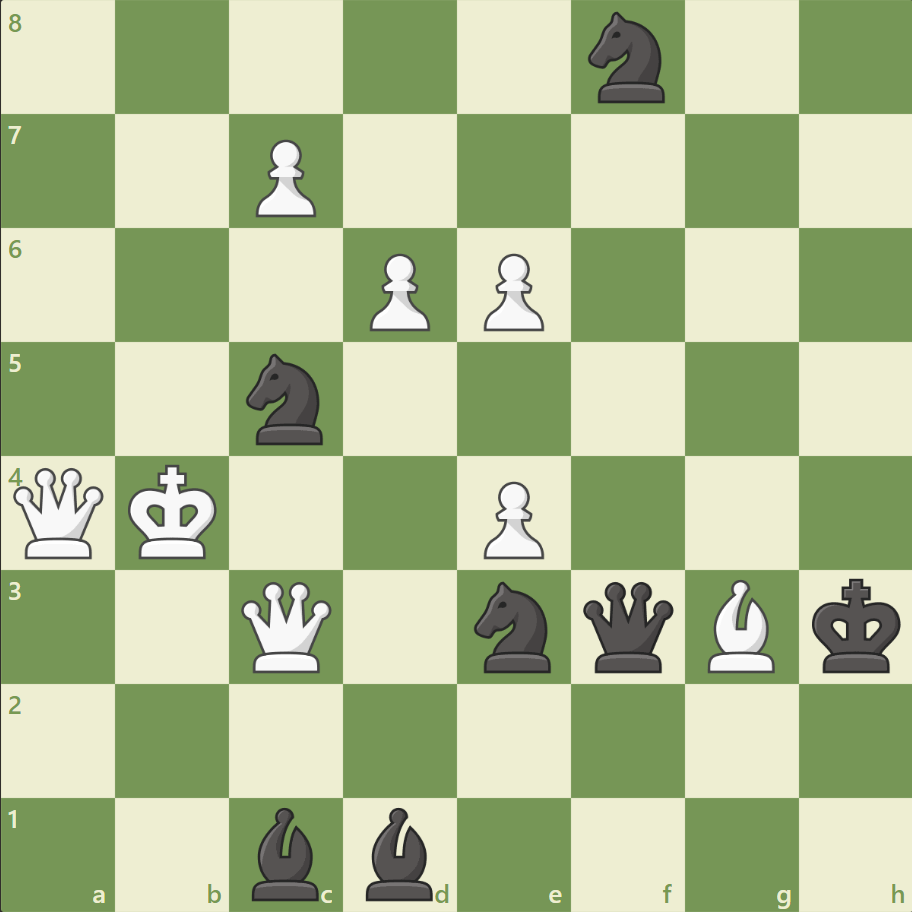B: (698, 574, 782, 676)
K: (124, 458, 224, 566)
P: (247, 132, 322, 223), (474, 246, 549, 337), (474, 473, 549, 564), (361, 246, 435, 337)
Q: (237, 576, 336, 676), (10, 463, 109, 562)
b: (244, 801, 328, 904), (358, 801, 442, 904)
k: (806, 571, 906, 679)
n: (579, 7, 676, 110), (238, 348, 335, 450), (465, 575, 562, 677)
q: (578, 576, 677, 676)
